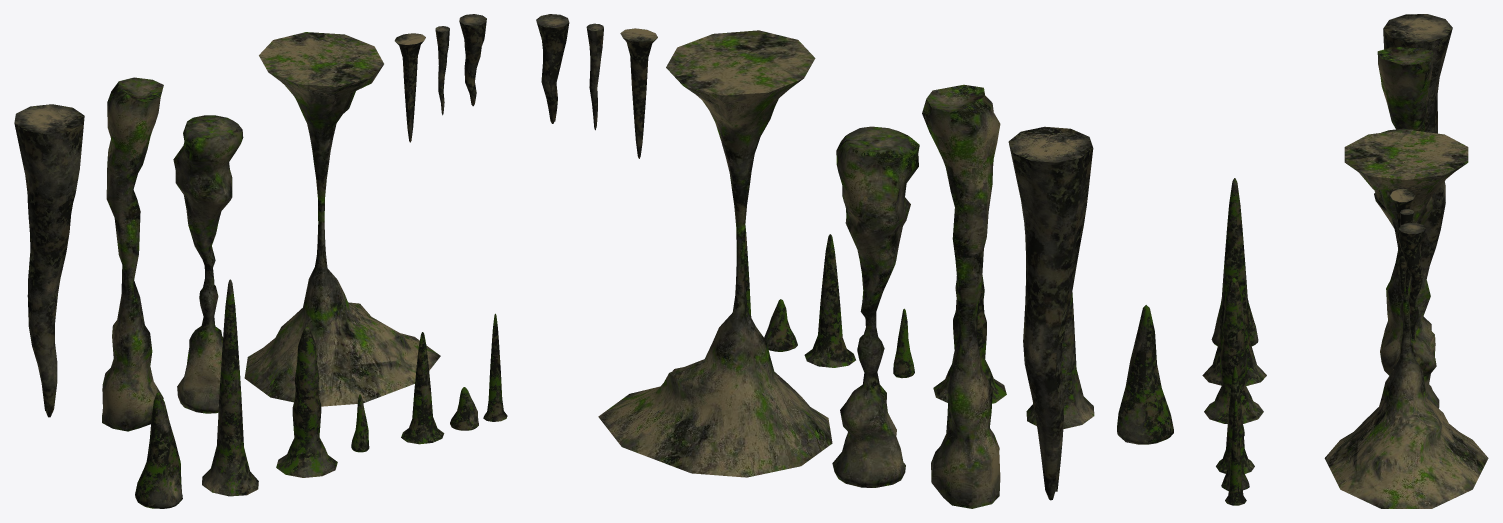
The model's file is stalagmite_set.glb.
3 renders of one model, left to right at view 1: azimuth 30°, elevation 25°; view 2: azimuth 150°, elevation 25°; view 3: azimuth 270°, elevation 25°, orthographic. The views are drawn at different scales.
Visible parts, largest first — view 1: collum_3_collums2_0, collum_1_collums_0, stalacite_4_Stalacite3_0, collum_2_collums1_0, stalagmite_6_stalagmite3_0, stalagmite_8_stalagmite5_0, stalagmite_4_stalagmite1_0, stalagmite_5_stalagmite2_0, stalacite_3_Stalacite2_0, stalacite_1_Stalacite_0, stalagmite_7_stalagmite4_0, stalagmite_1_stalagmite6_0 (+2 smaller); view 2: collum_3_collums2_0, collum_1_collums_0, stalacite_4_Stalacite3_0, collum_2_collums1_0, stalagmite_4_stalagmite1_0, stalagmite_5_stalagmite2_0, stalagmite_6_stalagmite3_0, stalacite_3_Stalacite2_0, stalacite_1_Stalacite_0, stalagmite_8_stalagmite5_0, stalagmite_1_stalagmite6_0, stalacite_2_Stalacite1_0 (+1 smaller); view 3: collum_3_collums2_0, collum_1_collums_0, stalacite_4_Stalacite3_0, stalagmite_8_stalagmite5_0, stalagmite_6_stalagmite3_0, collum_2_collums1_0, stalacite_3_Stalacite2_0, stalagmite_5_stalagmite2_0, stalagmite_7_stalagmite4_0, stalacite_1_Stalacite_0, stalagmite_4_stalagmite1_0.
Boxes of the visible parts, x1,y1,x2,y2 form: collum_3_collums2_0: (244, 32, 440, 406); collum_1_collums_0: (102, 77, 163, 431); stalacite_4_Stalacite3_0: (14, 104, 84, 417); collum_2_collums1_0: (173, 115, 243, 413); stalagmite_6_stalagmite3_0: (202, 279, 258, 496); stalagmite_8_stalagmite5_0: (276, 327, 337, 477); stalagmite_4_stalagmite1_0: (135, 392, 182, 508); stalagmite_5_stalagmite2_0: (401, 332, 444, 444); stalacite_3_Stalacite2_0: (459, 14, 486, 106); stalacite_1_Stalacite_0: (394, 33, 425, 142); stalagmite_7_stalagmite4_0: (483, 313, 507, 421); stalagmite_1_stalagmite6_0: (450, 387, 478, 430); collum_3_collums2_0: (598, 30, 832, 477); collum_1_collums_0: (922, 84, 1000, 508); stalacite_4_Stalacite3_0: (1008, 126, 1093, 500); collum_2_collums1_0: (832, 126, 919, 487); stalagmite_4_stalagmite1_0: (1117, 305, 1173, 444); stalagmite_5_stalagmite2_0: (804, 234, 855, 367); stalagmite_6_stalagmite3_0: (1026, 292, 1094, 428); stalacite_3_Stalacite2_0: (536, 14, 569, 123); stalacite_1_Stalacite_0: (620, 28, 657, 158); stalagmite_8_stalagmite5_0: (933, 275, 1006, 403); stalagmite_1_stalagmite6_0: (764, 299, 797, 351); stalacite_2_Stalacite1_0: (586, 23, 603, 130); collum_3_collums2_0: (1324, 129, 1488, 508); collum_1_collums_0: (1377, 47, 1435, 375); stalacite_4_Stalacite3_0: (1383, 14, 1452, 279); stalagmite_8_stalagmite5_0: (1204, 277, 1263, 423); stalagmite_6_stalagmite3_0: (1202, 178, 1266, 385); collum_2_collums1_0: (1374, 128, 1439, 408); stalacite_3_Stalacite2_0: (1398, 223, 1425, 312); stalagmite_5_stalagmite2_0: (1216, 366, 1254, 473); stalagmite_7_stalagmite4_0: (1225, 400, 1246, 505); stalacite_1_Stalacite_0: (1390, 189, 1415, 295); stalagmite_4_stalagmite1_0: (1211, 297, 1258, 346).
Bounding box in the file's own units: 649 × 444 × 358.
14 materials, 14 textured.
